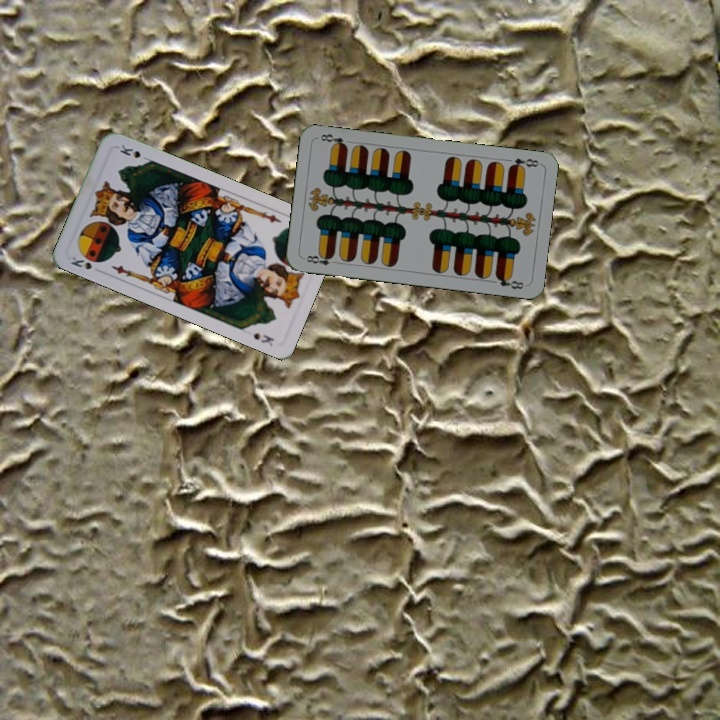E8: (300, 250, 341, 268), (505, 154, 541, 172)
SK: (67, 252, 94, 272)
